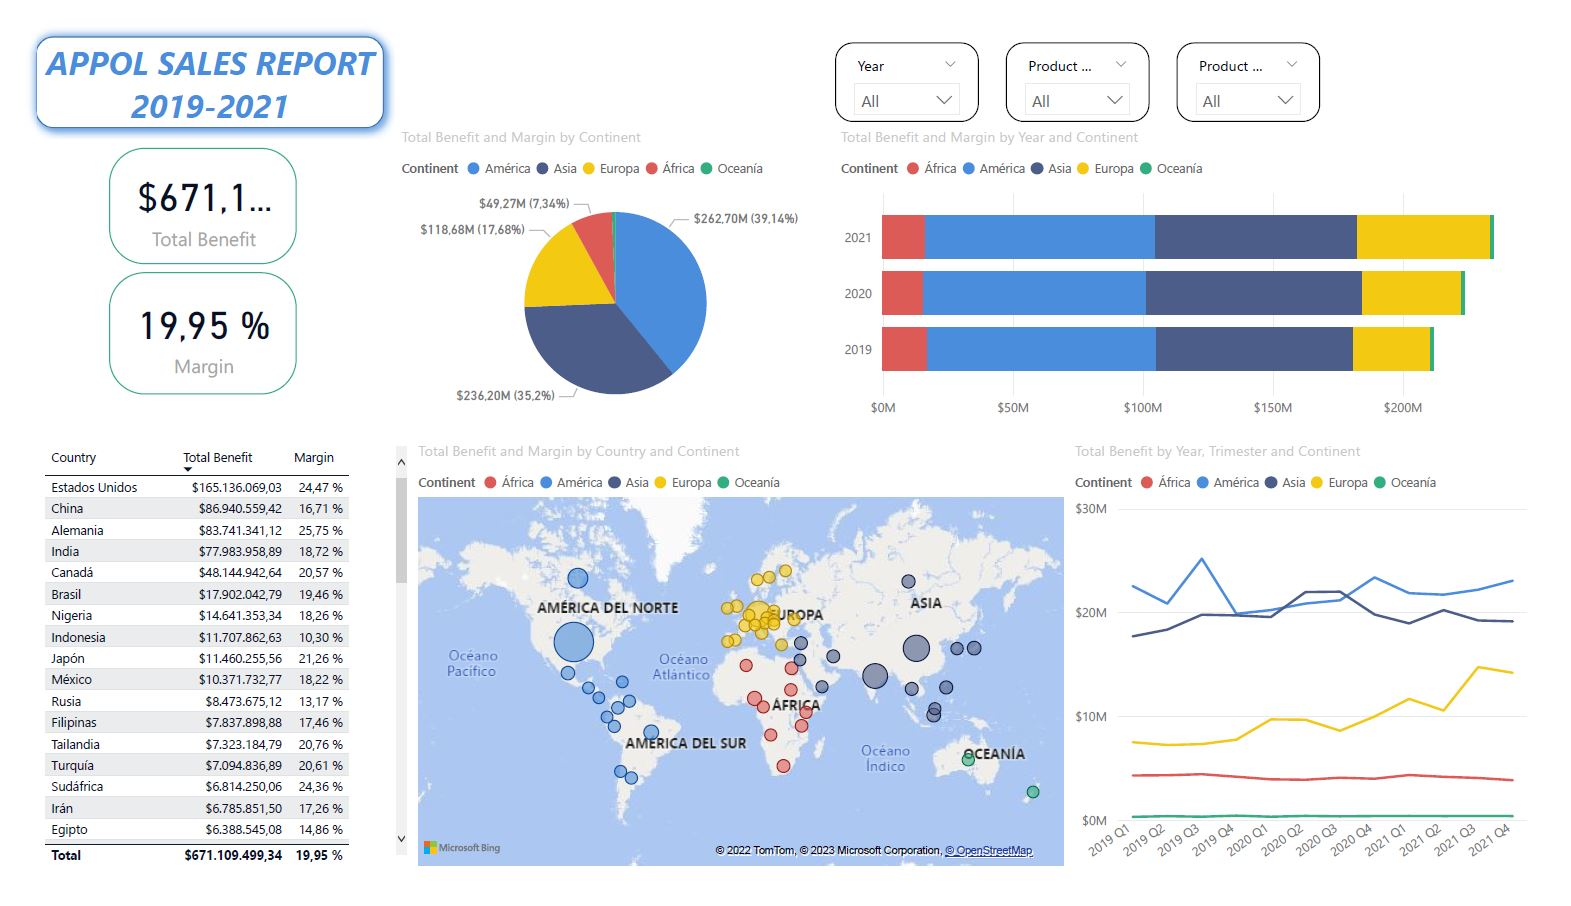

Layout of this report page (visuals, bound fields, positions):
{"tool":"powerbi","page":{"name":"Benefits by Country, Continent","canvas":[1280,720],"ordinal":0},"visuals":[{"type":"tableEx","fields":{"Values":["Tabla Datos.Country","Tabla Datos.Total Benefit","Tabla Datos.Margin"]},"box":[10.6,349.4,314.8,361.8],"z":0},{"type":"barChart","fields":{"Category":["Tabla Datos.Year"],"Y":["Tabla Datos.Total Benefit"],"Series":["Tabla Datos.Continent"]},"box":[681,85.1,587,253.6],"z":1000},{"type":"card","fields":{"Values":["Tabla Datos.Total Benefit"]},"box":[70,102.9,157.8,97.5],"z":2000},{"type":"card","fields":{"Values":["Tabla Datos.Margin"]},"box":[70,207.5,157.8,102.9],"z":3000},{"type":"map","fields":{"Category":["Tabla Datos.Country"],"Series":["Tabla Datos.Continent"],"Size":["Tabla Datos.Total Benefit"]},"box":[325.4,349.4,553.3,361.8],"z":5000},{"type":"lineChart","fields":{"Y":["Tabla Datos.Total Benefit"],"Category":["Tabla Datos.Year","Tabla Datos.Trimester"],"Series":["Tabla Datos.Continent"]},"box":[877.8,349.4,390.1,361.8],"z":6000},{"type":"shape","box":[0,0,310.3,94.9],"z":7000},{"type":"pieChart","fields":{"Category":["Tabla Datos.Continent"],"Y":["Tabla Datos.Total Benefit"]},"box":[311.2,85.1,369.8,253.6],"z":7001},{"type":"slicer","fields":{"Values":["Tabla Datos.Year"]},"box":[681,14.2,120.6,66.5],"z":7002},{"type":"slicer","fields":{"Values":["Tabla Productos.Product Category"]},"box":[968.3,14.2,120.6,66.5],"z":7003},{"type":"slicer","fields":{"Values":["Tabla Datos.Product Type"]},"box":[824.6,14.2,120.6,66.5],"z":7004}]}

Visuals, with their boxes in screenshot pixels (x1, y1, x2, y2), scaled from the page's 1280x720 canvas onto the 1571x906 screenshot:
tableEx - Tabla Datos.Country x Tabla Datos.Total Benefit: (13,440,399,895)
barChart - Tabla Datos.Year x Tabla Datos.Total Benefit: (836,107,1556,426)
card - Tabla Datos.Total Benefit: (86,129,280,252)
card - Tabla Datos.Margin: (86,261,280,391)
map - Tabla Datos.Country x Tabla Datos.Continent: (399,440,1078,895)
lineChart - Tabla Datos.Total Benefit x Tabla Datos.Year: (1077,440,1556,895)
shape: (0,0,381,119)
pieChart - Tabla Datos.Continent x Tabla Datos.Total Benefit: (382,107,836,426)
slicer - Tabla Datos.Year: (836,18,984,102)
slicer - Tabla Productos.Product Category: (1188,18,1336,102)
slicer - Tabla Datos.Product Type: (1012,18,1160,102)
